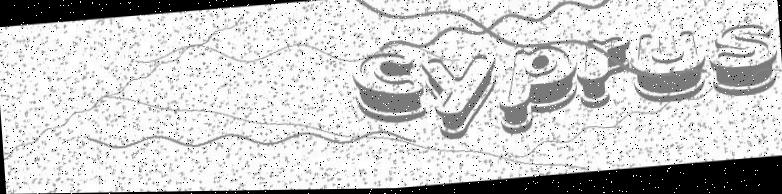c: (341, 41, 431, 136)
p: (495, 41, 581, 145)
r: (571, 28, 631, 115)
s: (710, 14, 781, 103)
u: (631, 25, 709, 109)
y: (417, 50, 501, 152)
